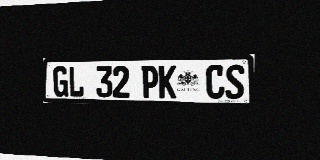2: (113, 66, 129, 98)
3: (96, 66, 112, 98)
C: (206, 65, 225, 99)
G: (53, 66, 68, 97)
K: (159, 65, 176, 98)
L: (69, 66, 84, 97)
P: (141, 65, 158, 98)
S: (225, 65, 244, 99)
